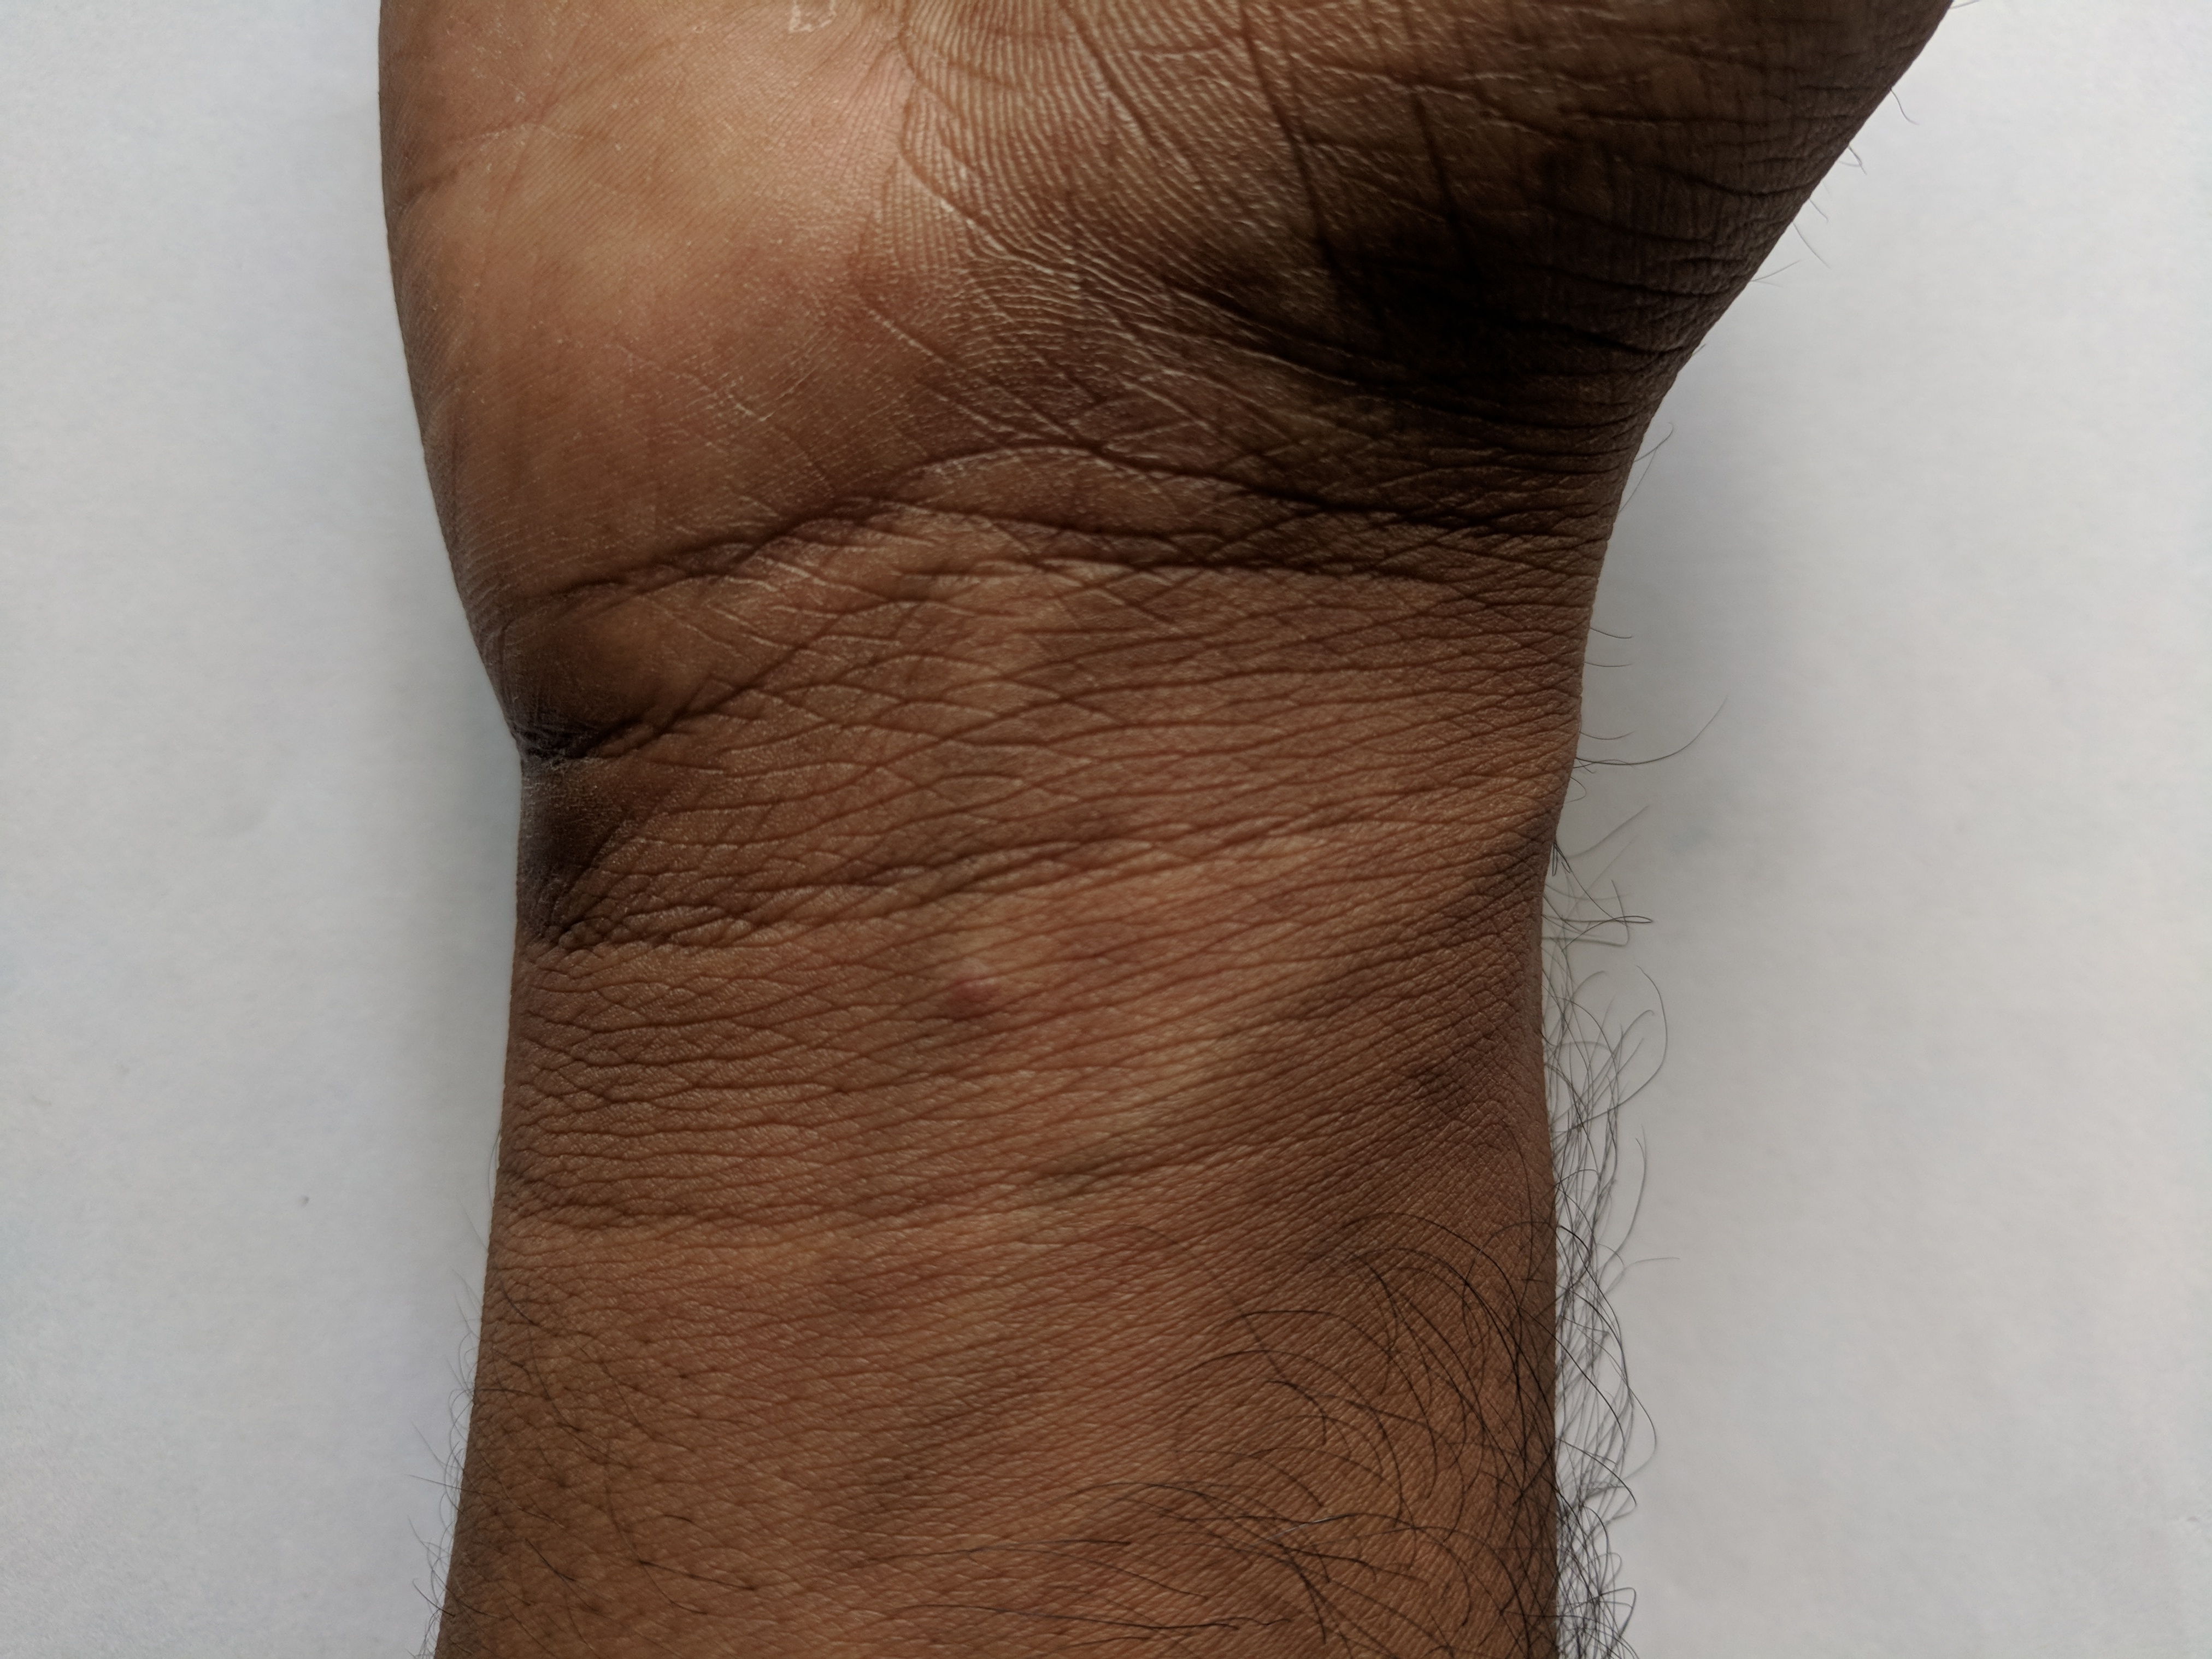righthandwrist: (423, 472, 1635, 951)
